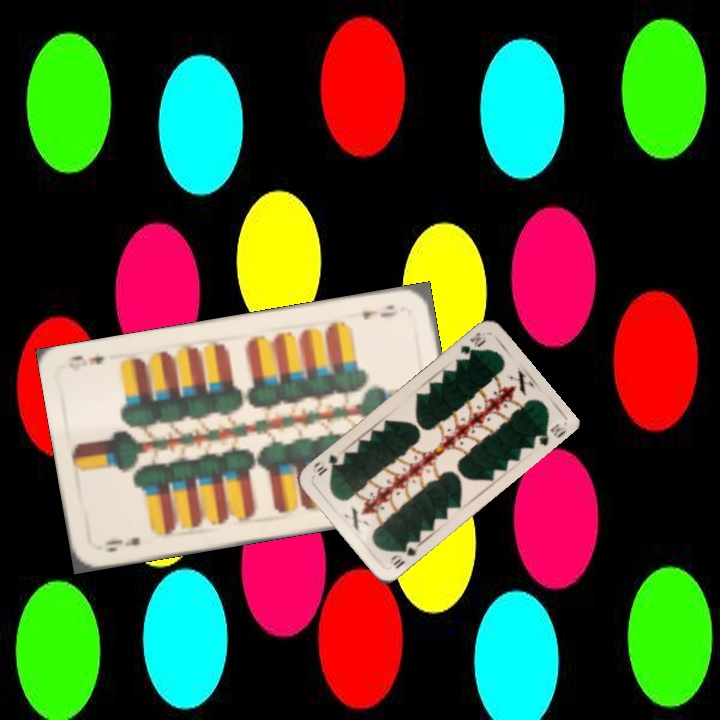E9: (100, 533, 143, 555), (358, 301, 399, 322)
G10: (387, 541, 421, 571), (456, 328, 489, 357)
